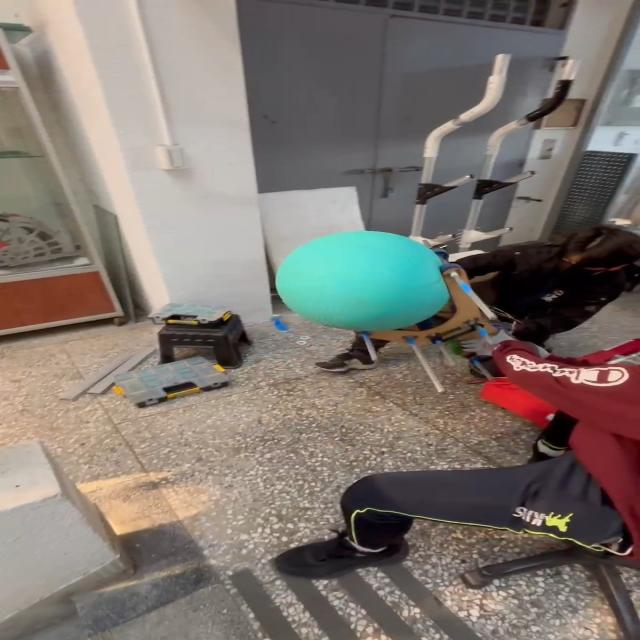ALGAE: (272, 229, 452, 333)
